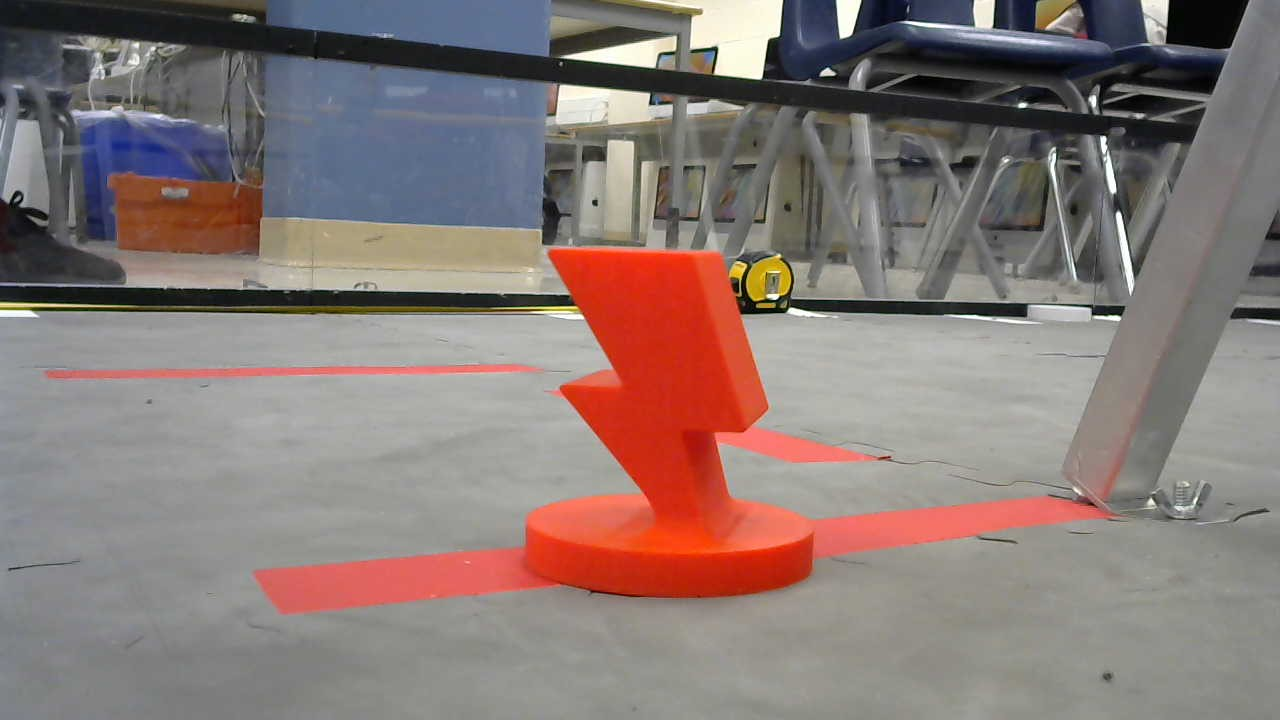redobject: (522, 240, 818, 603)
